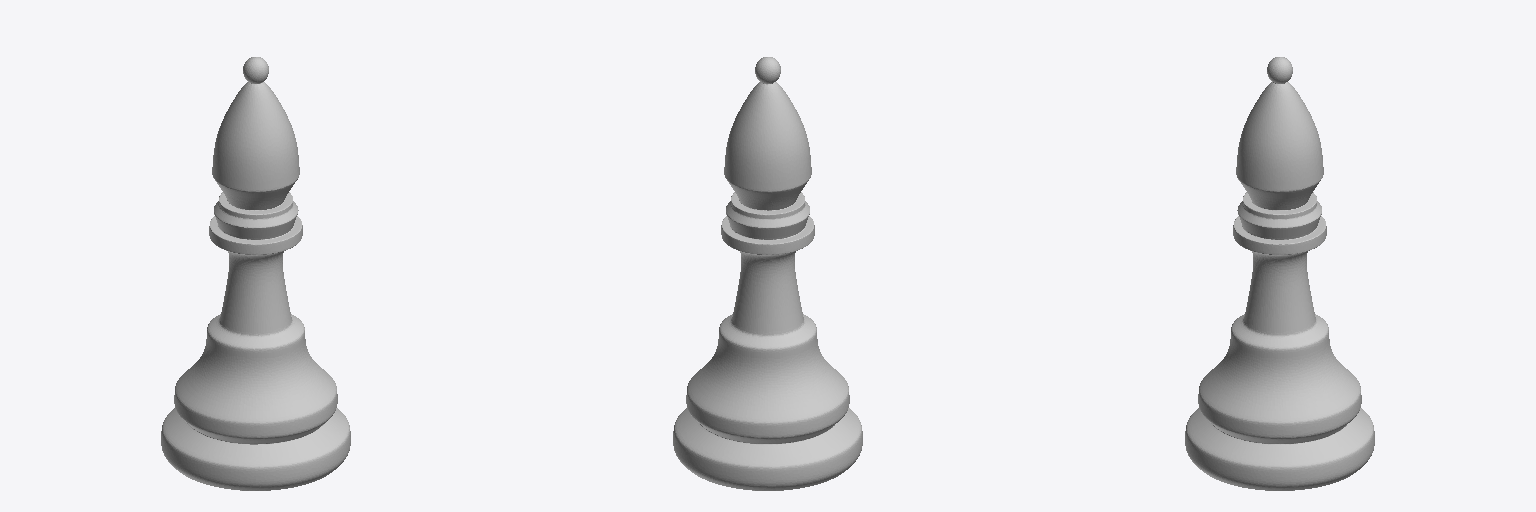
Rendered from bishop-white-cylinder.obj.
3 views of the same model, side by side, from view 1: azimuth 30°, elevation 25°; view 2: azimuth 150°, elevation 25°; view 3: azimuth 270°, elevation 25° (orthographic).
Visible parts, largest first — view 1: Group53789.001; view 2: Group53789.001; view 3: Group53789.001.
Boxes of the visible parts, x1,y1,x2,y2 form: Group53789.001: [161, 57, 350, 490]; Group53789.001: [673, 57, 862, 490]; Group53789.001: [1185, 57, 1374, 490].
Bounding box in the file's own units: 0.962 × 2.22 × 0.9619.